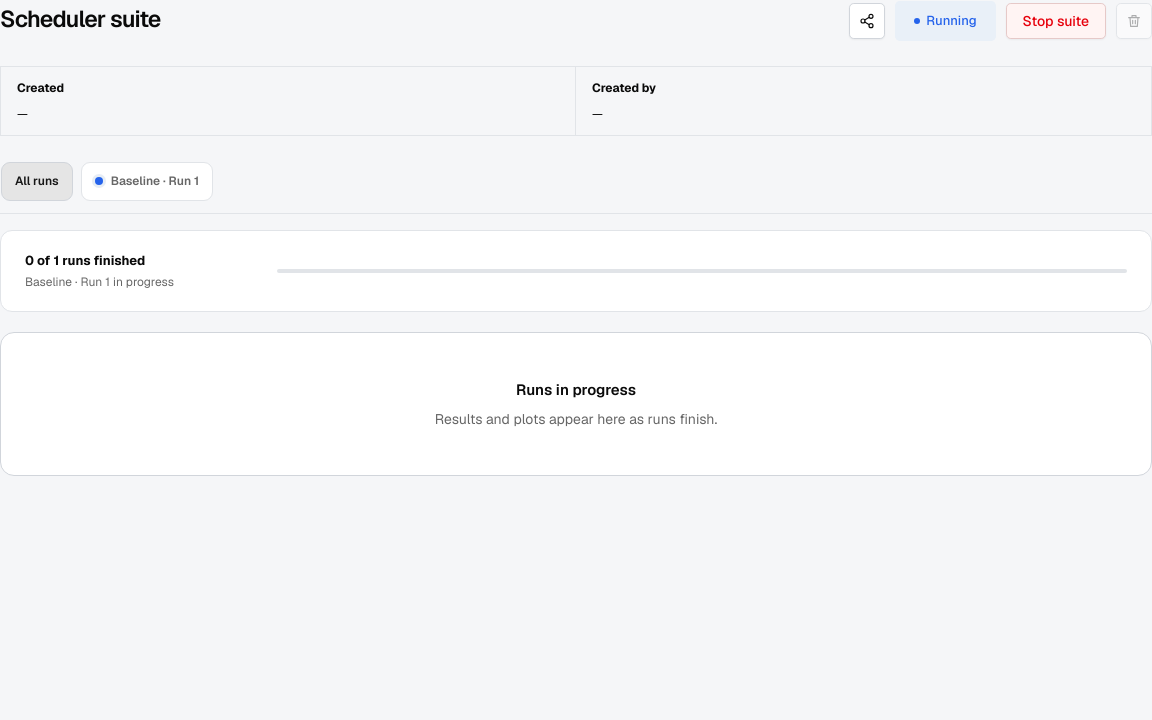
Test case: focused experiment results › stops an active suite from its detail page
Click the button "Stop suite" at coordinates (1056, 21), box [1006,3,1106,39]
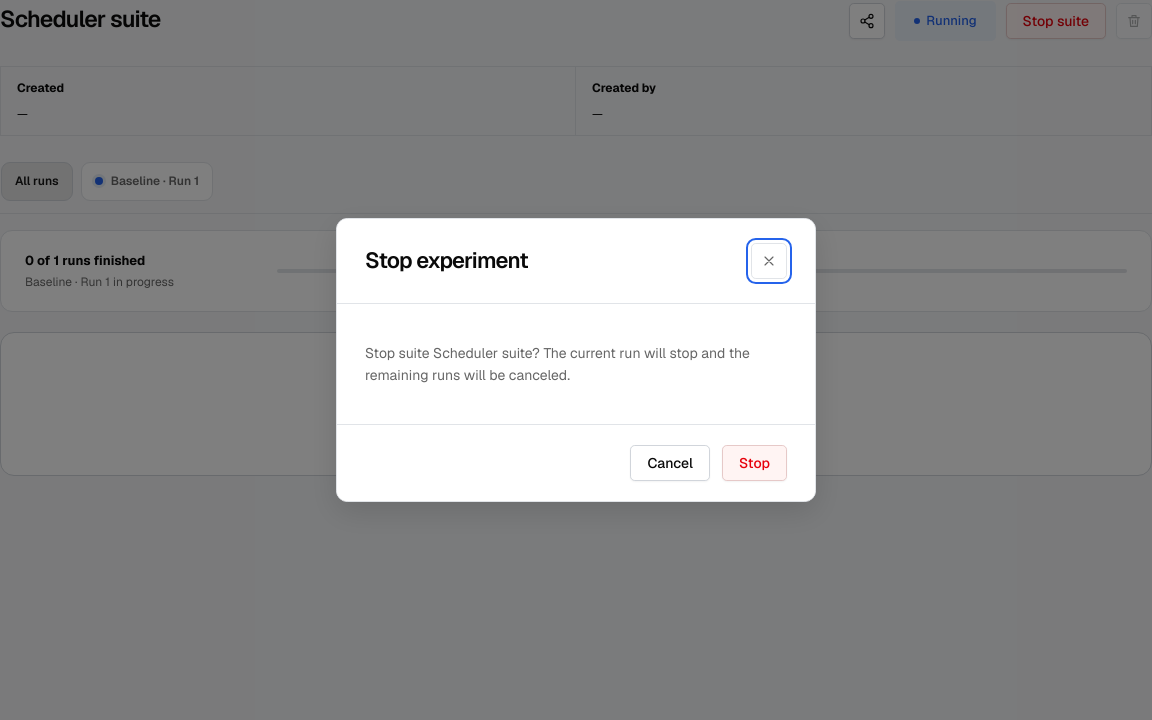
Click the button "Stop" at coordinates (754, 463), box [722,445,787,481]
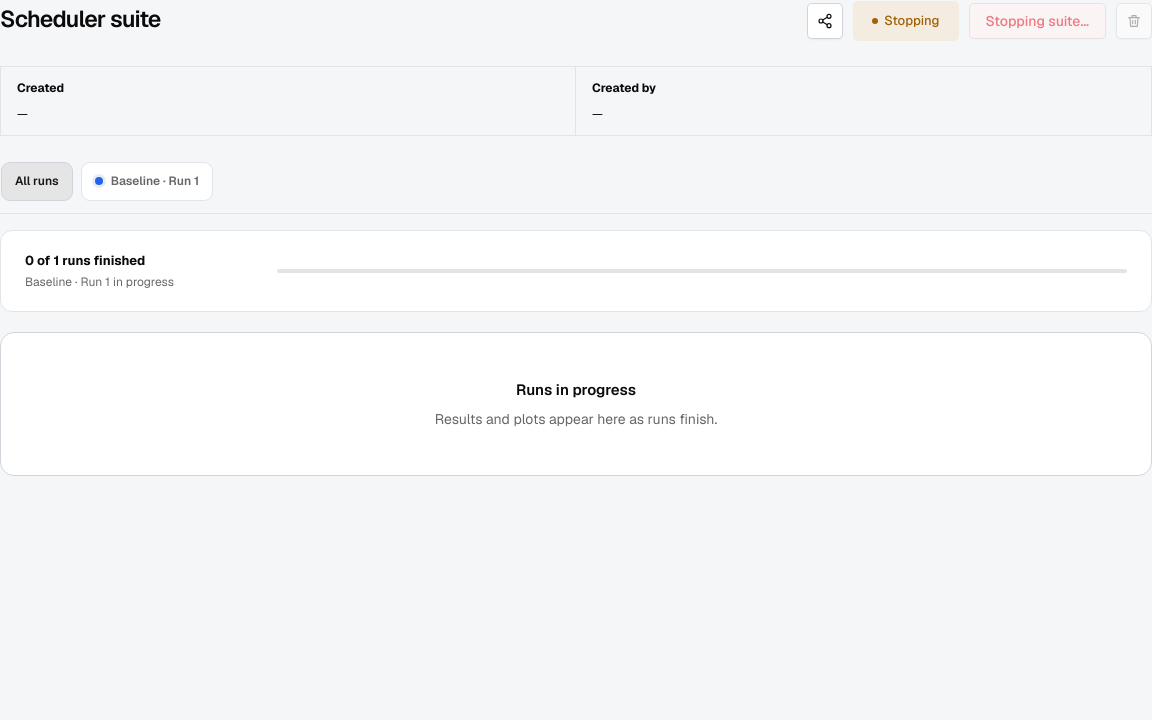
Expected: the button "Stopping suite…" is disabled, [968,3,1106,39]
Expected: the text "stopping" is shown, [853,1,958,41]
